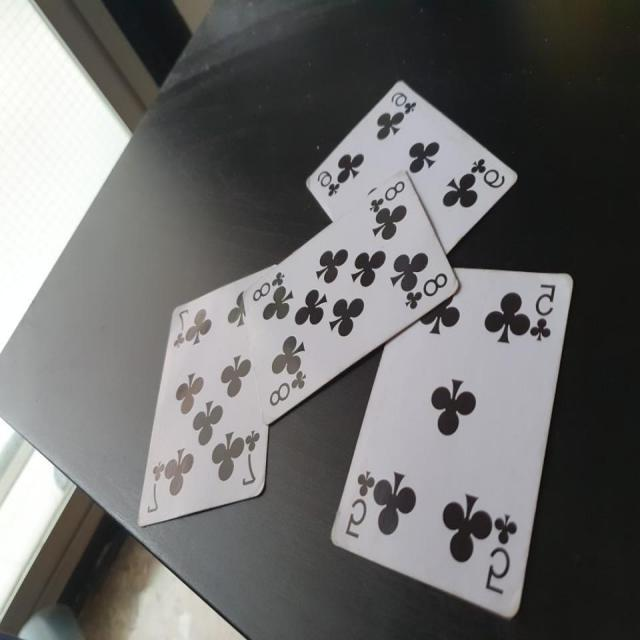5 of clubs: (332, 266, 575, 622)
6 of clubs: (305, 77, 520, 258)
7 of clubs: (136, 261, 278, 530)
8 of clubs: (240, 171, 462, 425)
